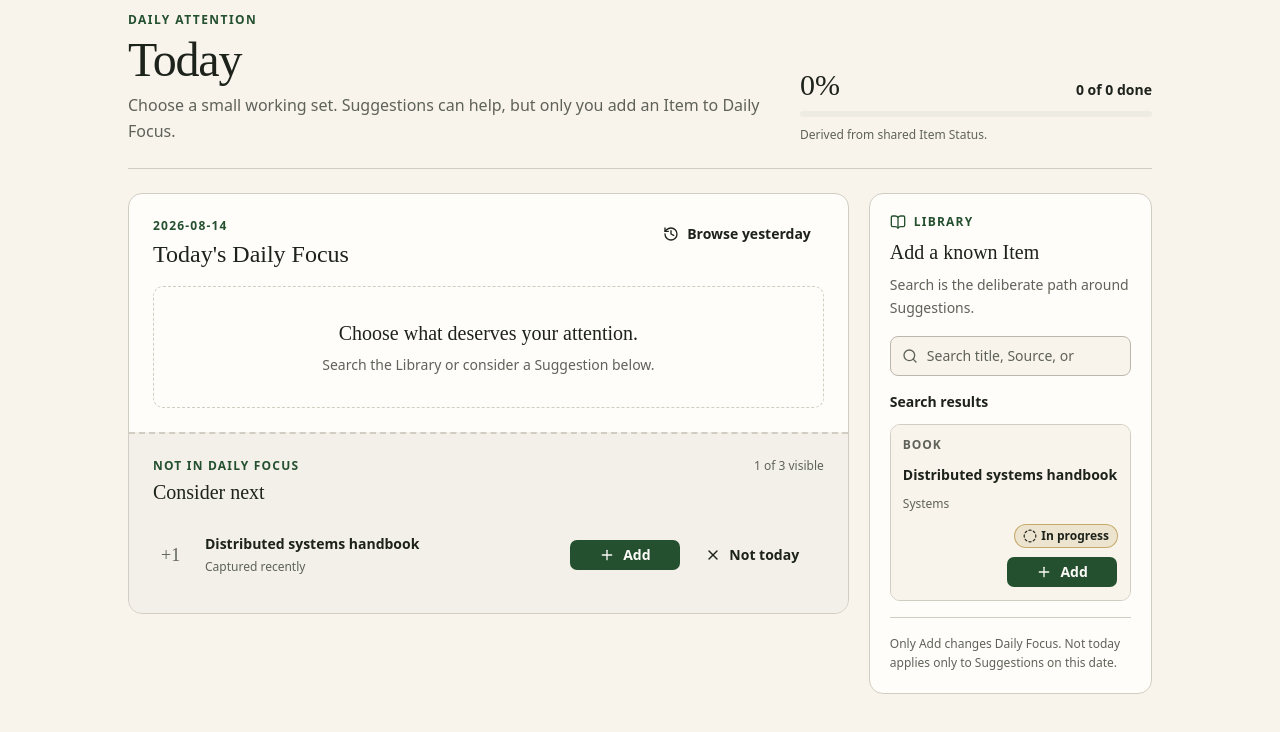
Test: Today room › keeps a confirmed Add when planning replenishment fails
The width and height of the screenshot is (1280, 732).
Click the button "Add" in the row of "Captured recently": {"x": 625, "y": 555} [569,539,681,571]
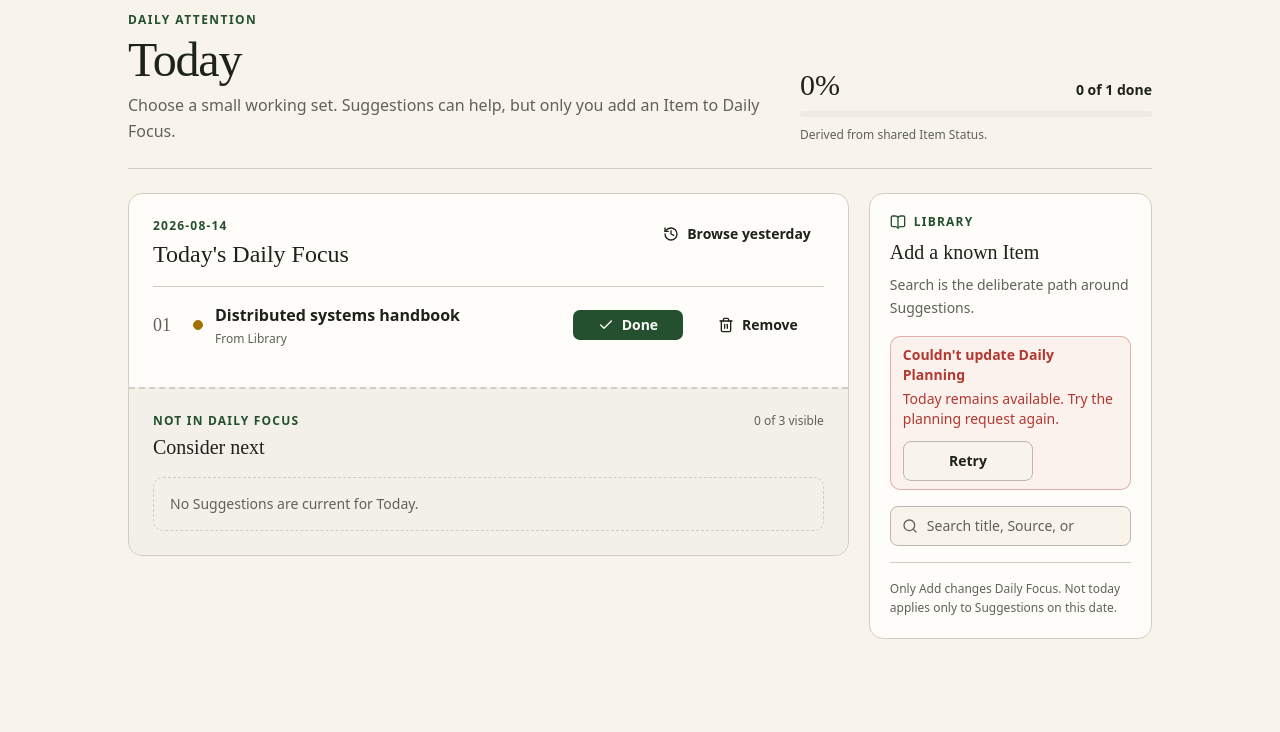
Expected: the link "Distributed systems handbook" is shown, [215,304,460,326]
Expected: the text "Couldn't update Daily Planning" is shown, [903,344,1054,384]
